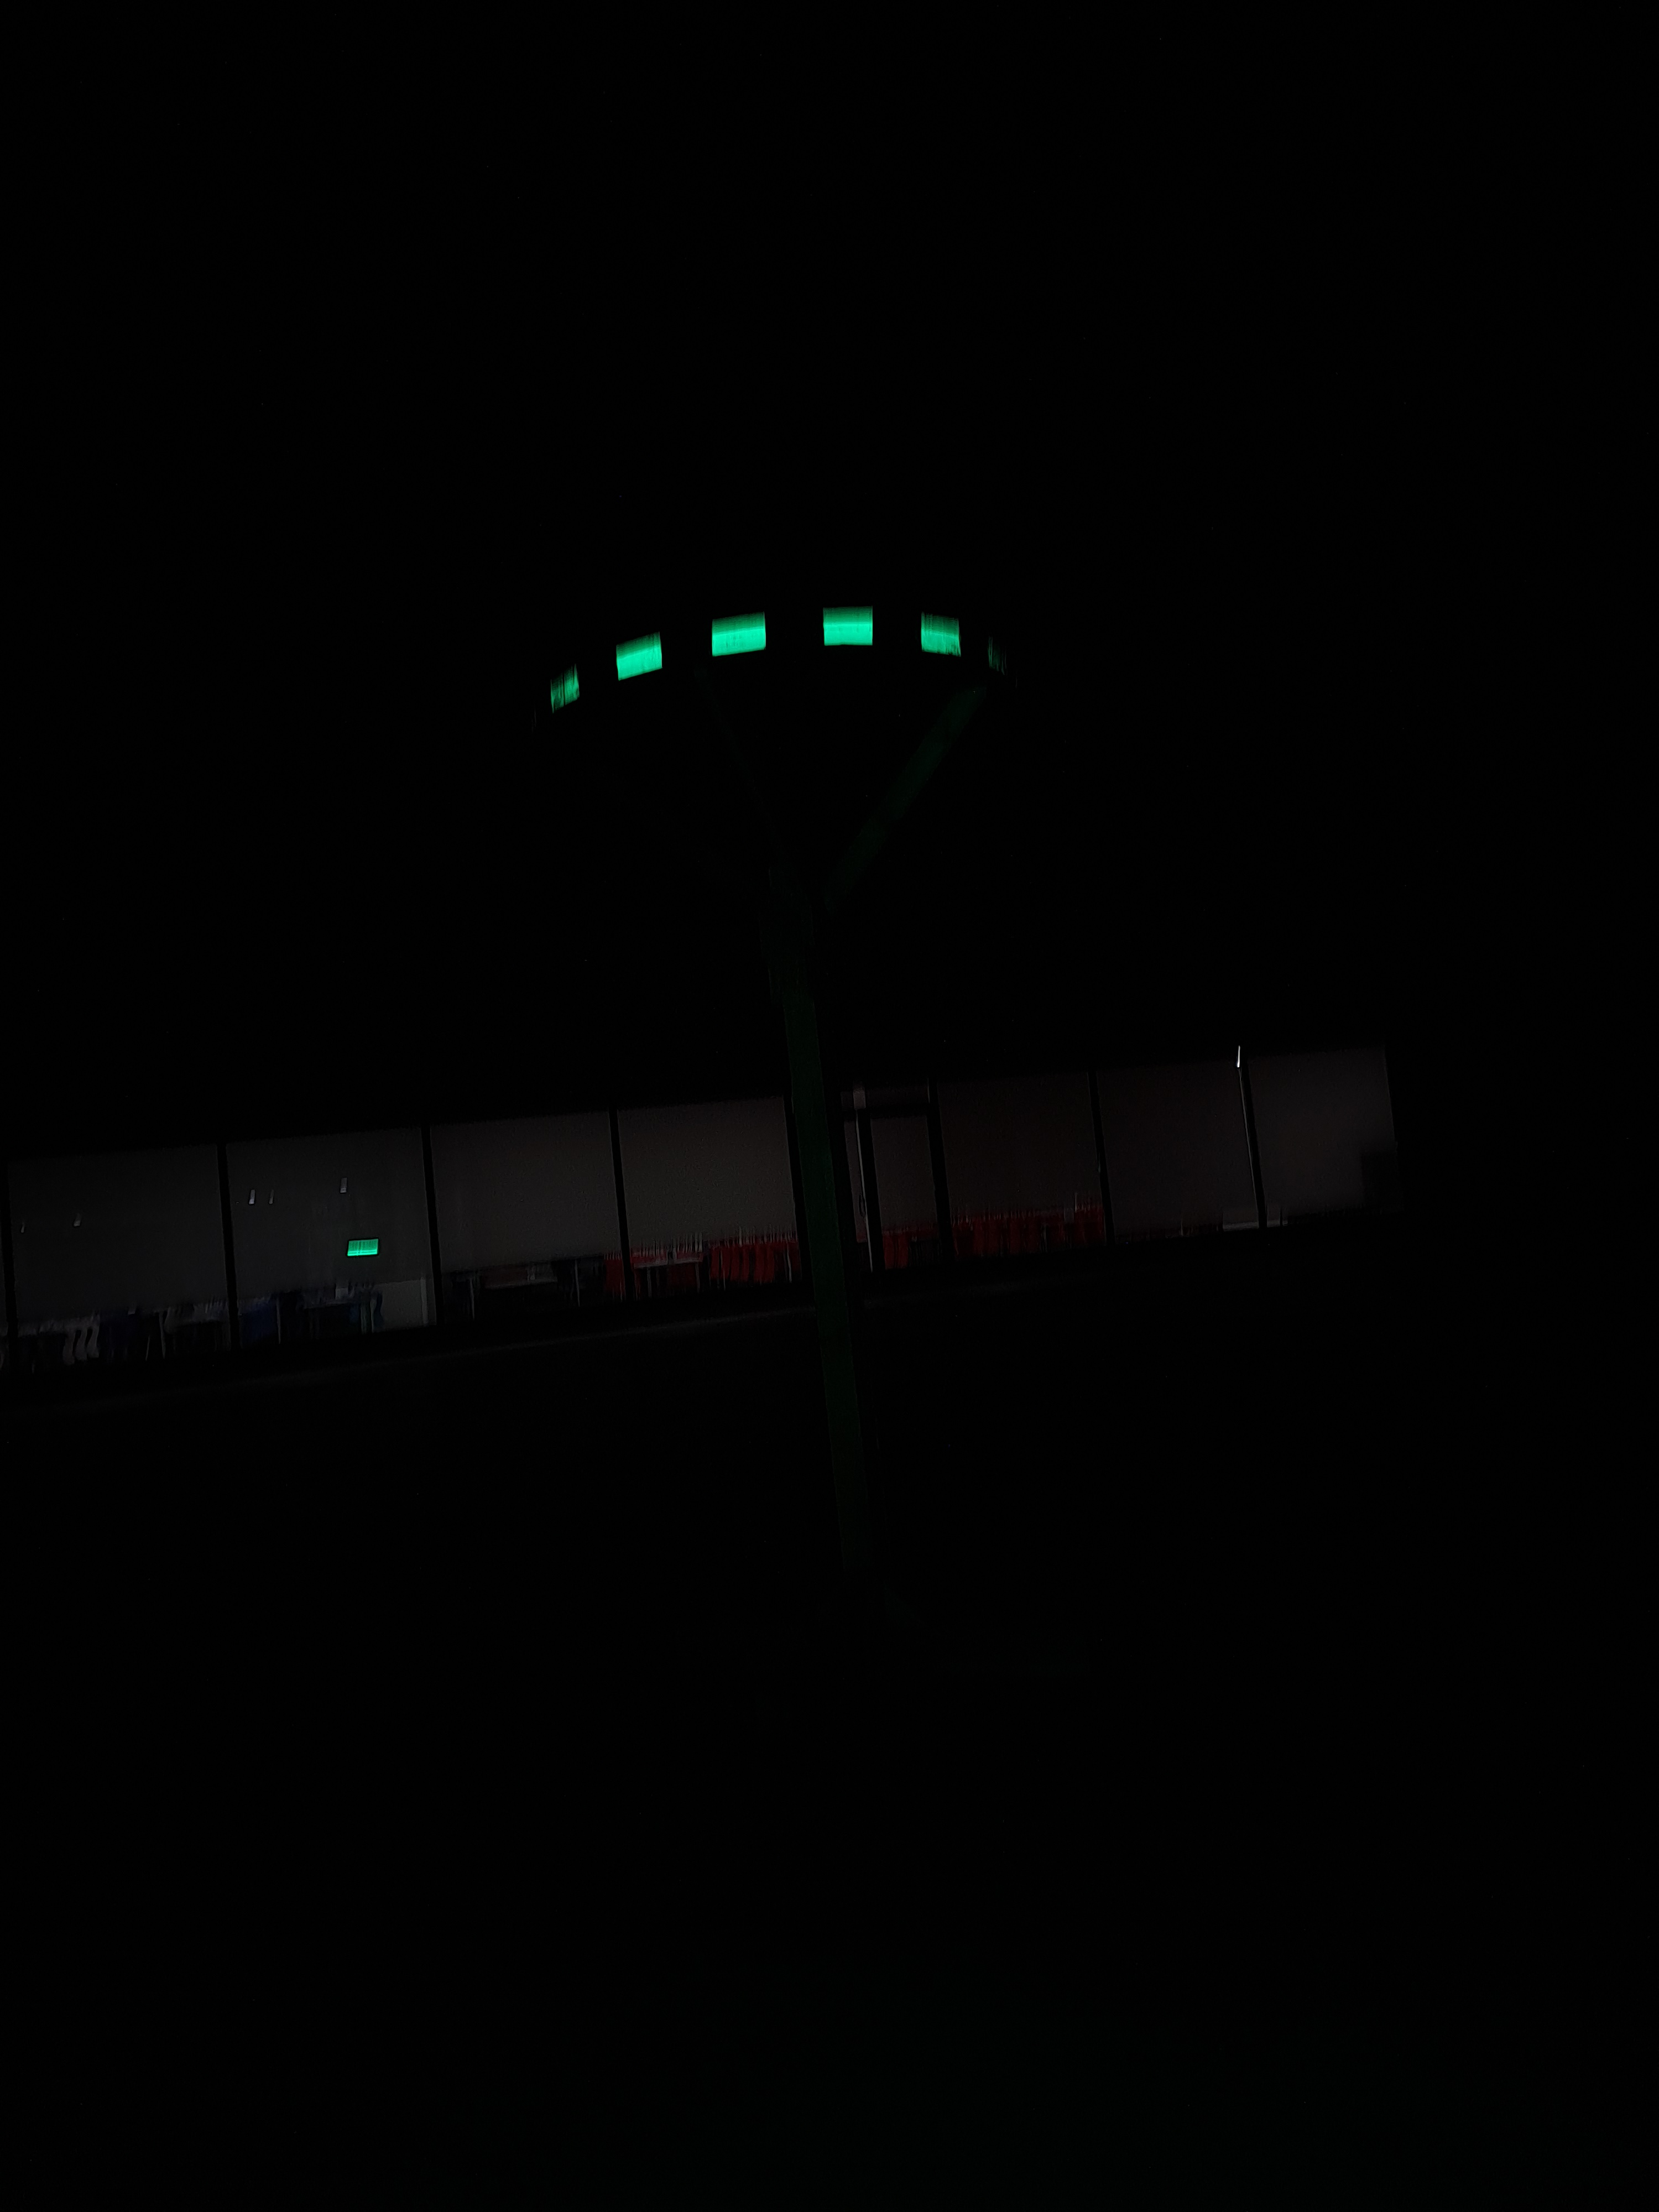hoop: (544, 610, 965, 721)
